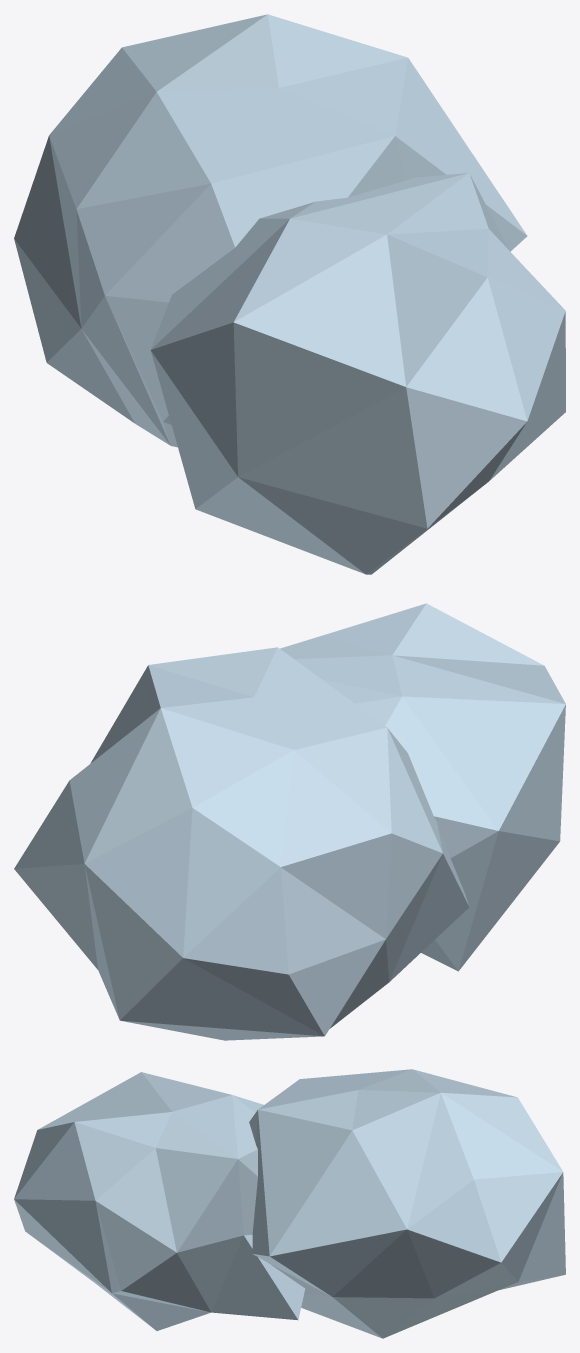
Rendered from cloud2.fbx.
The picture shows the model from 3 angles, top to bottom: view 1: azimuth 30°, elevation 25°; view 2: azimuth 150°, elevation 25°; view 3: azimuth 270°, elevation 25°; orthographic projection. The views are drawn at different scales.
Parts seen in each view (by area): view 1: Cloud2; view 2: Cloud2; view 3: Cloud2.
Boxes of the visible parts, x1,y1,x2,y2 form: Cloud2: [14, 14, 565, 574]; Cloud2: [14, 603, 565, 1040]; Cloud2: [14, 1069, 565, 1338].
Bounding box in the file's own units: 184 × 176 × 323.
